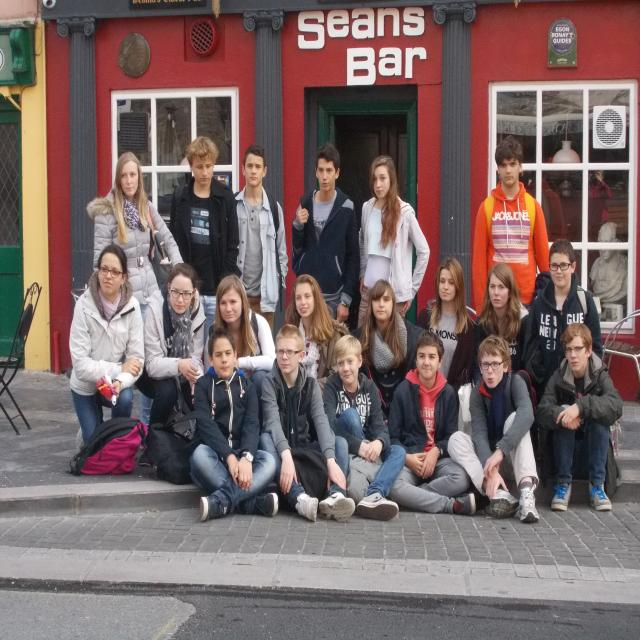body: (80, 147, 188, 452), (257, 324, 357, 525), (522, 145, 630, 323), (187, 325, 280, 523), (446, 334, 542, 524), (387, 329, 478, 515), (535, 322, 623, 512), (68, 243, 145, 453), (322, 334, 407, 522), (168, 134, 242, 344), (134, 262, 208, 467), (472, 134, 552, 322), (524, 237, 604, 406), (356, 153, 430, 330), (202, 274, 278, 438), (291, 144, 360, 324), (232, 143, 289, 340), (355, 278, 430, 426), (417, 256, 477, 411), (285, 272, 351, 392), (471, 263, 533, 388)
